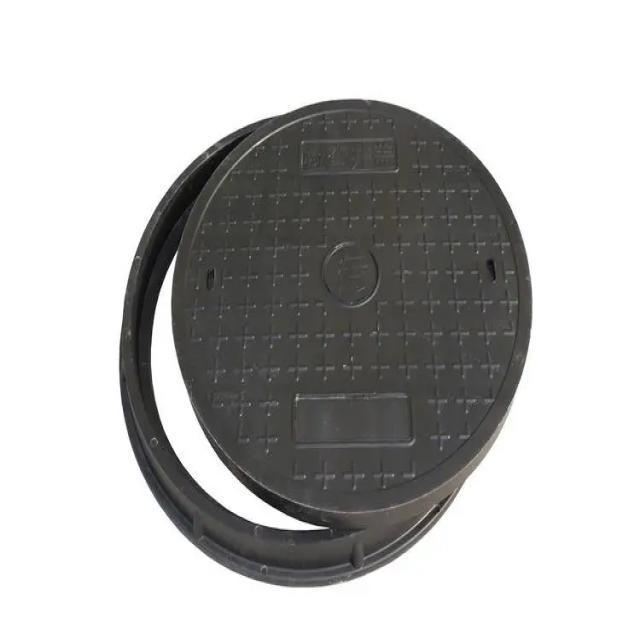manhole: (117, 100, 535, 591)
